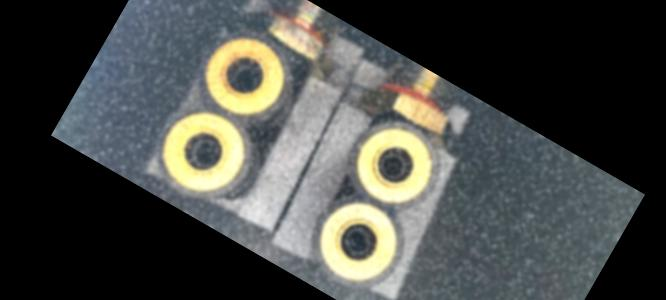off-centered: (332, 215, 383, 265), (180, 129, 227, 175)
